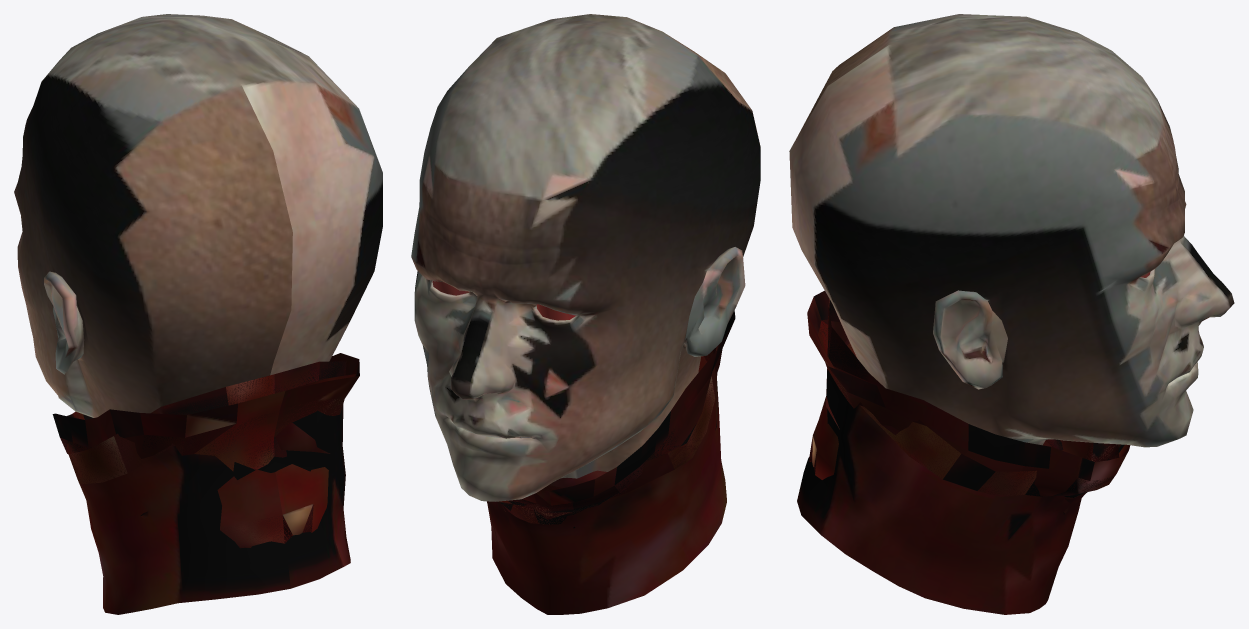
3 renders of one model, left to right at view 1: azimuth 30°, elevation 25°; view 2: azimuth 150°, elevation 25°; view 3: azimuth 270°, elevation 25°, orthographic. The views are drawn at different scales.
Visible parts, largest first — view 1: mesh_0; view 2: mesh_0; view 3: mesh_0.
Boxes of the visible parts, bbox=[...] form: mesh_0: bbox=[14, 14, 382, 614]; mesh_0: bbox=[411, 14, 760, 614]; mesh_0: bbox=[789, 14, 1234, 614].
Bounding box in the file's own units: 7.51 × 13.65 × 9.68.
1 material, 1 textured.
